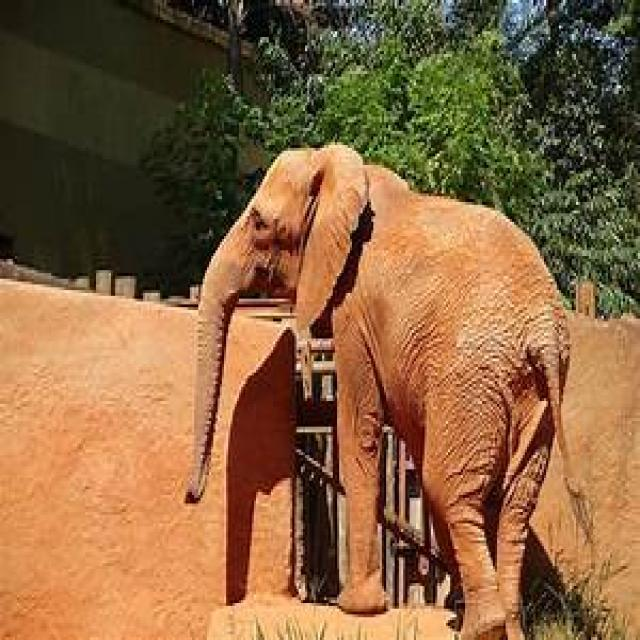elephant: (186, 142, 585, 640)
